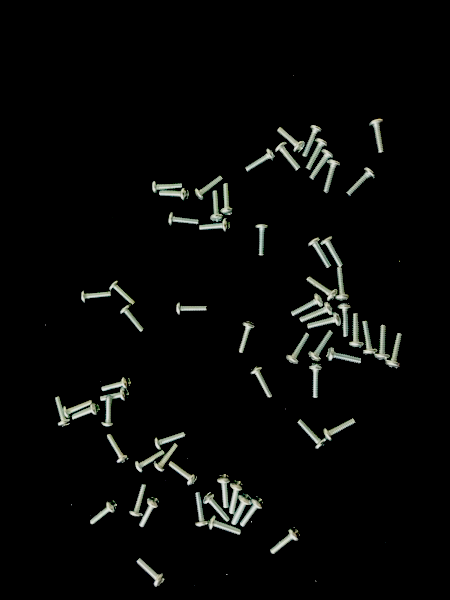shortscrew: (297, 419, 328, 450), (346, 167, 377, 198), (137, 558, 168, 587), (271, 527, 302, 555), (309, 329, 335, 362), (286, 332, 311, 366), (324, 417, 358, 442), (245, 147, 277, 173), (277, 126, 306, 154), (195, 174, 225, 201), (309, 150, 335, 181), (241, 496, 266, 528), (250, 365, 274, 398), (306, 138, 330, 171), (90, 499, 120, 525), (203, 492, 229, 522), (275, 142, 301, 172), (106, 434, 131, 465), (307, 237, 332, 268), (154, 444, 180, 473), (291, 294, 325, 316), (130, 484, 151, 519), (120, 304, 145, 333), (307, 277, 337, 301), (300, 302, 334, 323), (321, 236, 344, 267), (109, 279, 136, 305), (135, 450, 164, 474), (210, 516, 243, 537), (303, 125, 323, 159), (386, 332, 404, 369), (140, 497, 161, 528), (170, 463, 198, 486), (232, 494, 252, 526), (327, 347, 362, 365), (324, 159, 342, 194), (195, 492, 212, 529), (238, 320, 256, 354), (154, 432, 187, 450), (375, 324, 391, 361), (308, 312, 342, 329), (71, 403, 103, 421), (363, 320, 379, 356), (370, 118, 386, 154), (63, 399, 93, 418), (334, 268, 351, 301), (230, 480, 246, 515), (55, 396, 72, 428), (310, 363, 325, 399), (350, 313, 365, 348), (220, 183, 235, 218), (338, 303, 353, 337), (256, 223, 271, 257), (199, 218, 233, 233), (217, 474, 231, 509), (175, 302, 207, 316), (159, 188, 191, 202), (82, 290, 113, 304), (169, 212, 200, 226), (211, 190, 224, 223), (102, 397, 116, 427), (152, 182, 184, 195)
